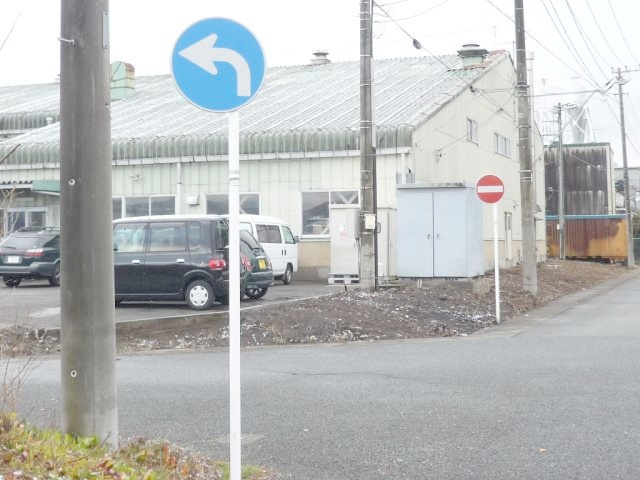Direction_sign: (171, 17, 280, 126)
